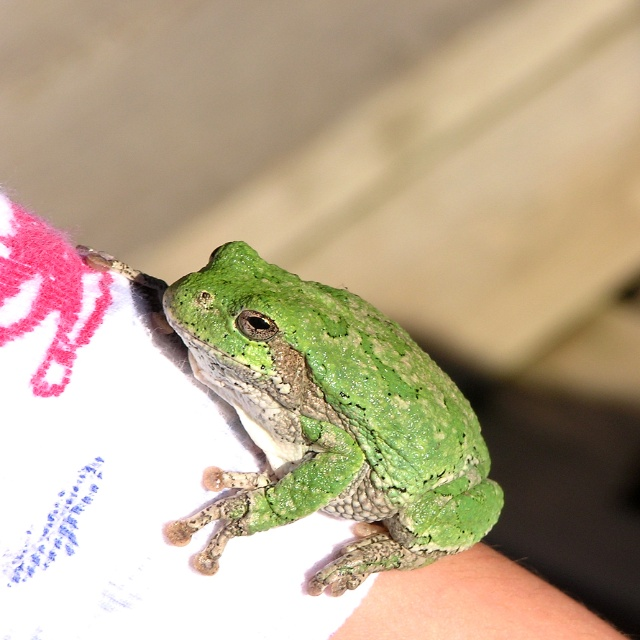Frog: (65, 238, 506, 596)
